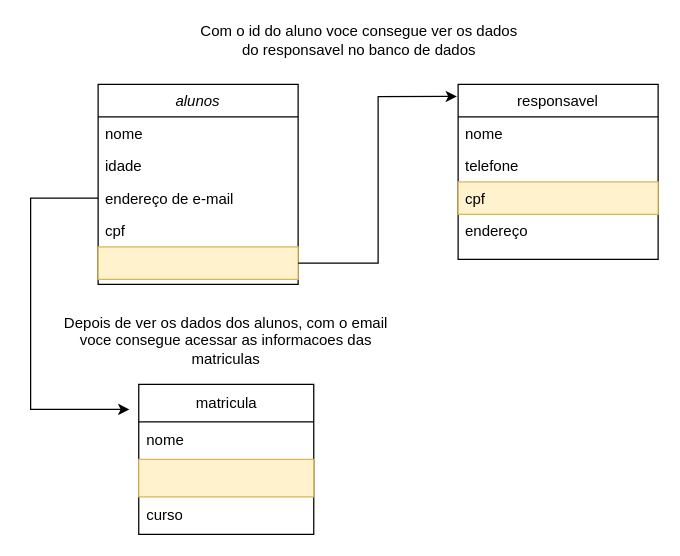
This 680x556 diagram has some shape labels left out. Here are the shapes that lost their labels. From the top down, the centre of each, then its label:
pixel 197 262: id
pixel 226 477: turma
